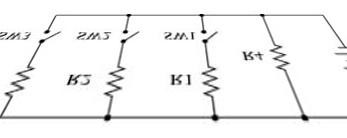resistor: (2, 64, 45, 100), (103, 59, 135, 101), (198, 59, 224, 103), (268, 38, 290, 80)
